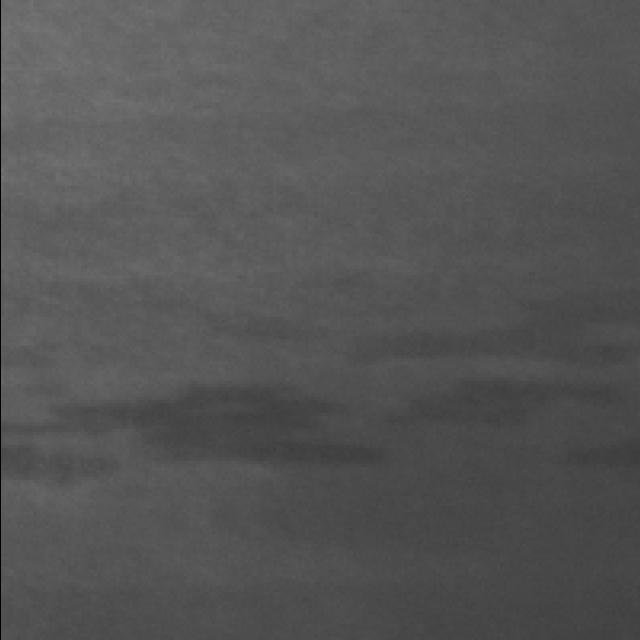inclusion: (1, 382, 394, 510), (402, 366, 640, 438), (354, 305, 632, 359)
